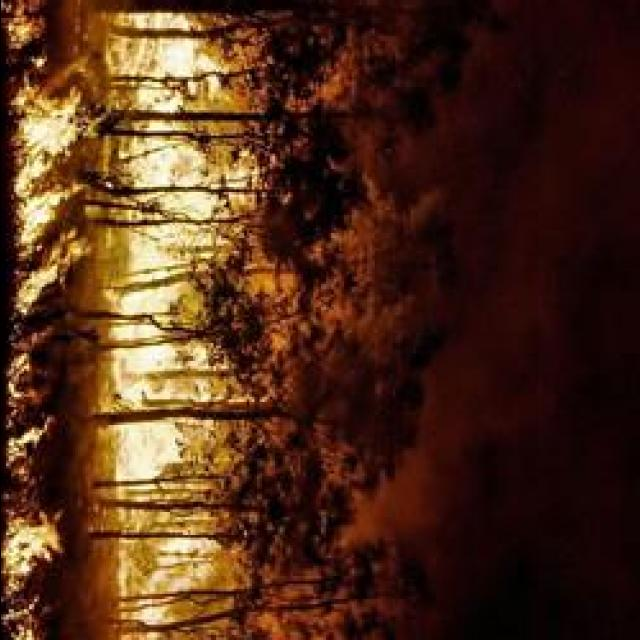fire: (115, 422, 177, 473), (20, 105, 75, 150), (155, 42, 205, 78), (8, 529, 56, 563), (114, 348, 170, 374), (16, 195, 56, 229), (120, 289, 158, 315), (130, 240, 160, 268)
smoke: (520, 1, 640, 250), (520, 412, 627, 608), (458, 337, 586, 452)
